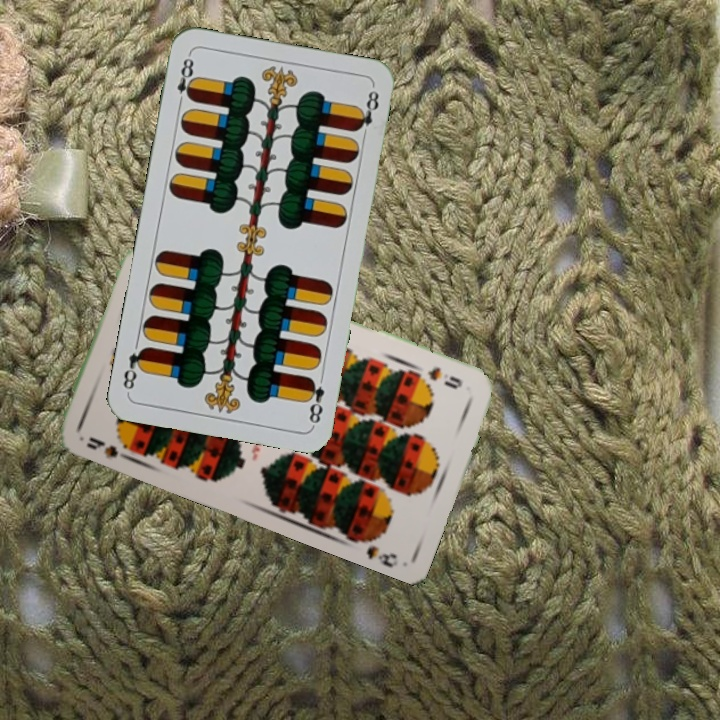E8: (173, 51, 198, 109), (302, 373, 327, 428)
S9: (82, 433, 136, 464), (424, 363, 465, 392)
